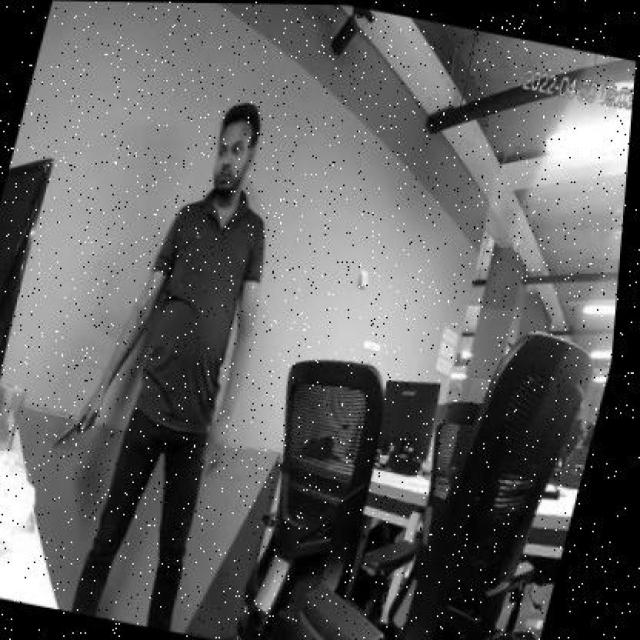weapon: (50, 402, 101, 452)
